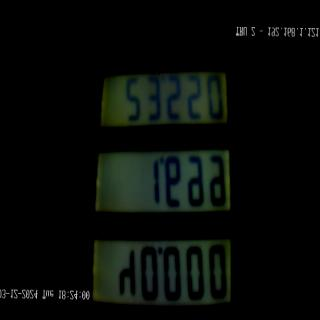screen: (88, 30, 243, 320)
